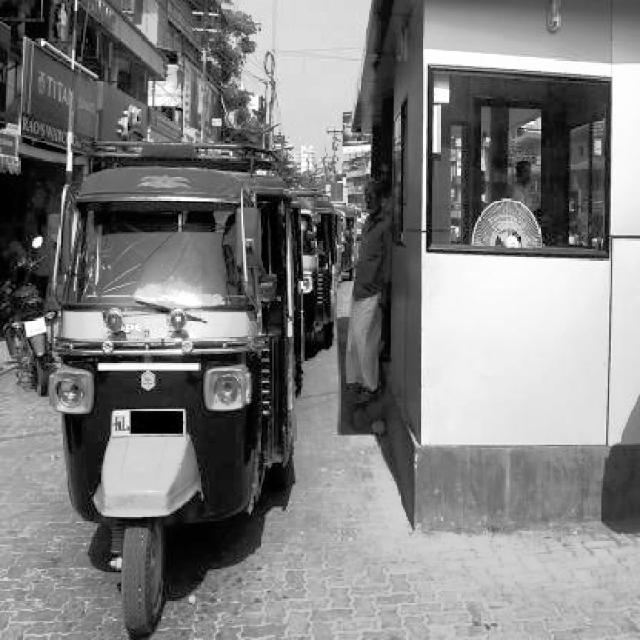Auto-Rickshaw: (55, 161, 293, 640)
